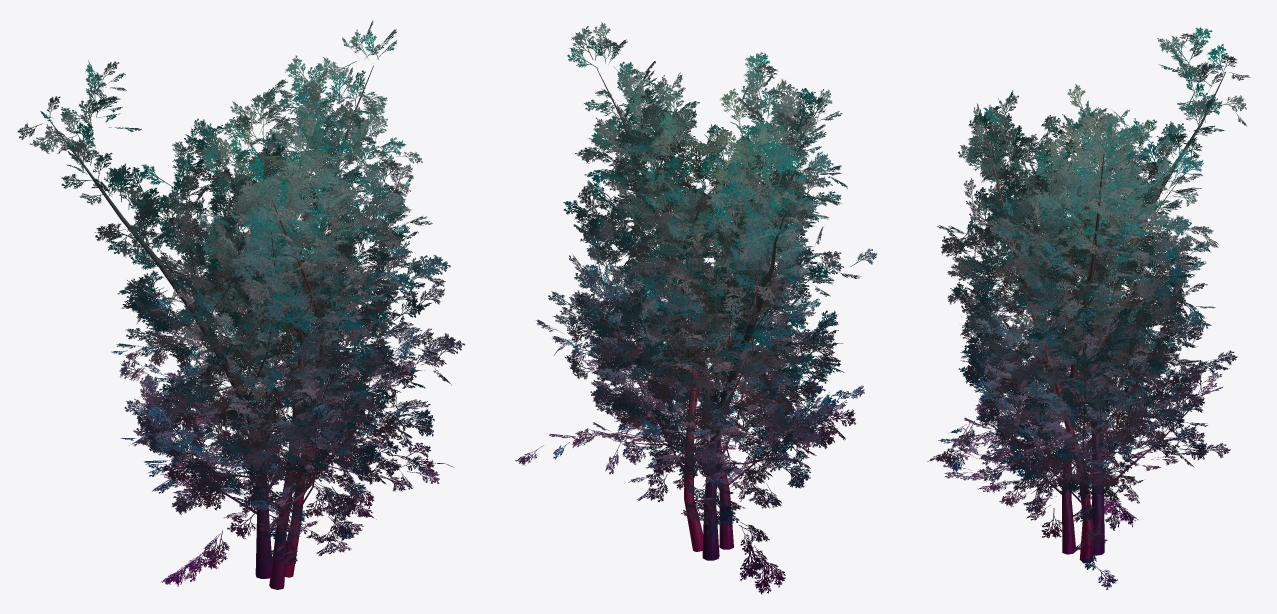
The picture shows the model from 3 angles, left to right: view 1: azimuth 30°, elevation 25°; view 2: azimuth 150°, elevation 25°; view 3: azimuth 270°, elevation 25°; orthographic projection. The views are drawn at different scales.
Visible parts, largest first — view 1: rocky_mountain_juniper_LOD1; view 2: rocky_mountain_juniper_LOD1; view 3: rocky_mountain_juniper_LOD1.
Part boxes in pixels (left/top/right/bottom): rocky_mountain_juniper_LOD1: left=17, top=20, right=465, bottom=589; rocky_mountain_juniper_LOD1: left=515, top=22, right=876, bottom=594; rocky_mountain_juniper_LOD1: left=927, top=27, right=1249, bottom=589.
Size of the model in its own units: 5.64 by 7.44 by 4.58.
Materials: 2 (2 with a texture image).
